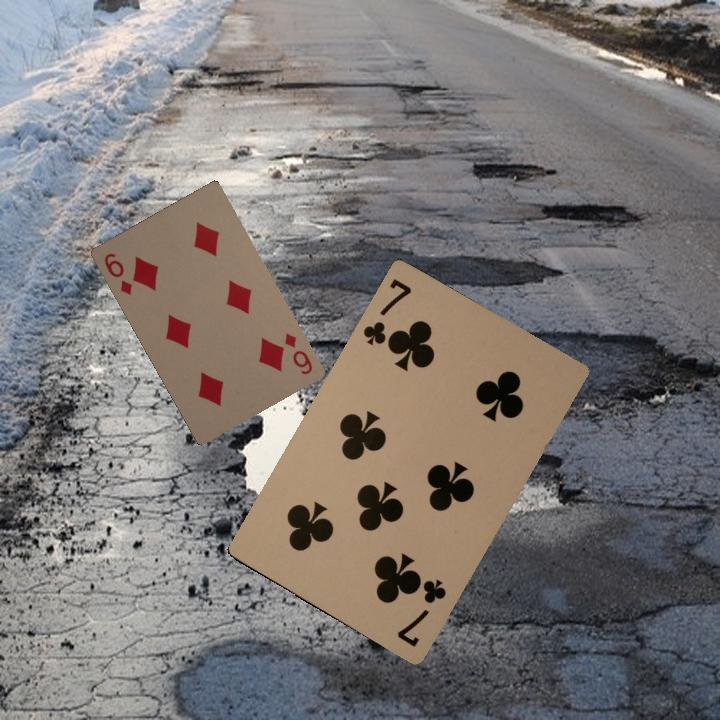6d: (279, 329, 315, 377), (100, 249, 135, 298)
7c: (358, 274, 415, 351), (392, 575, 449, 650)
